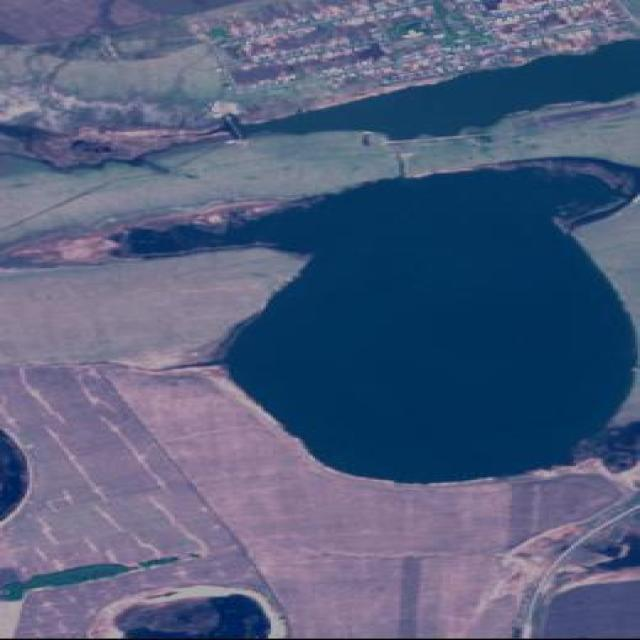argiculture: (0, 254, 632, 640)
water: (222, 168, 630, 480), (258, 41, 638, 138), (113, 211, 258, 255), (118, 594, 268, 636), (534, 578, 638, 636)
